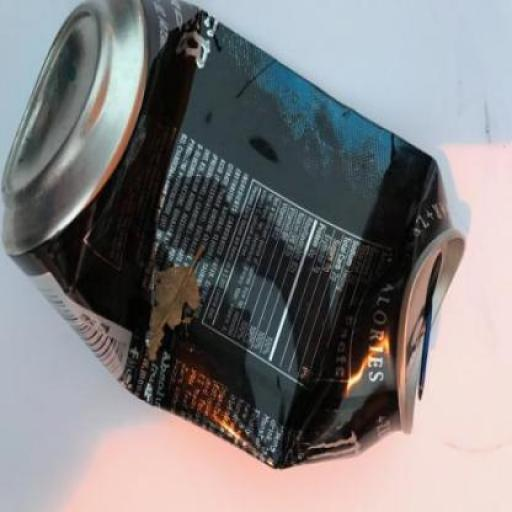metal: (1, 2, 468, 472)
